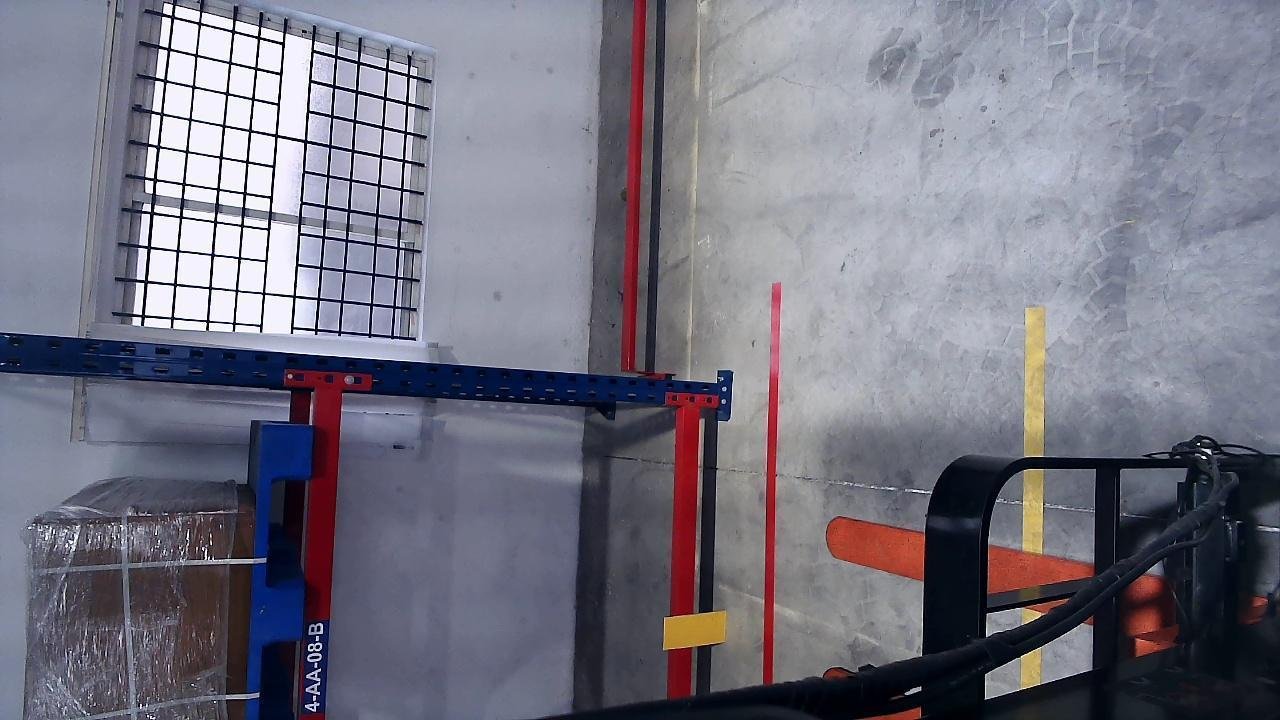red_line: (766, 280, 782, 680)
yellow_line: (1021, 306, 1046, 683)
